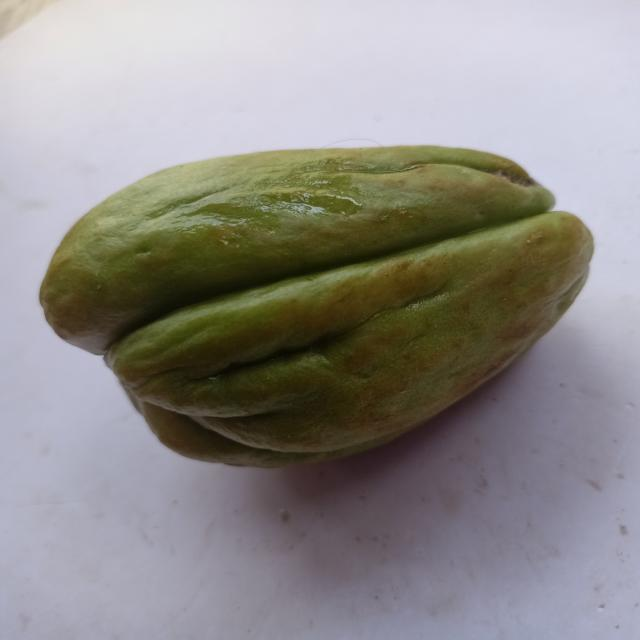Chayote: (28, 127, 618, 490)
